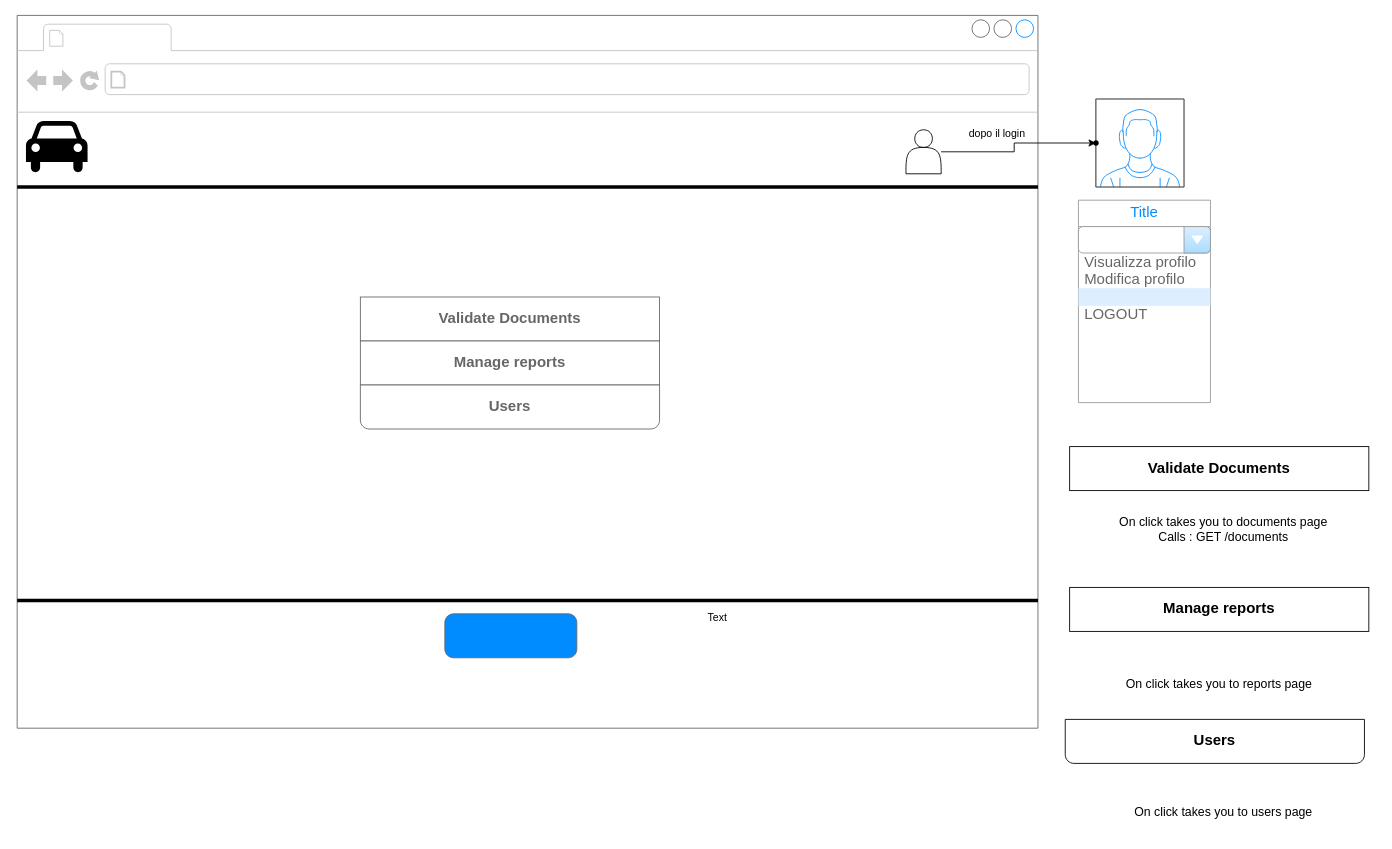
The diagram is 1392 pixels wide and 849 high, and some of its shapes have lost their labels. Each missing label, with the centre of its shape:
"About us" belongs at (510,635).
"dropdown" belongs at (1144,239).
"https://www.mypersonaldriver/documents.it" belongs at (241,79).
"Page 1" belongs at (118,37).
